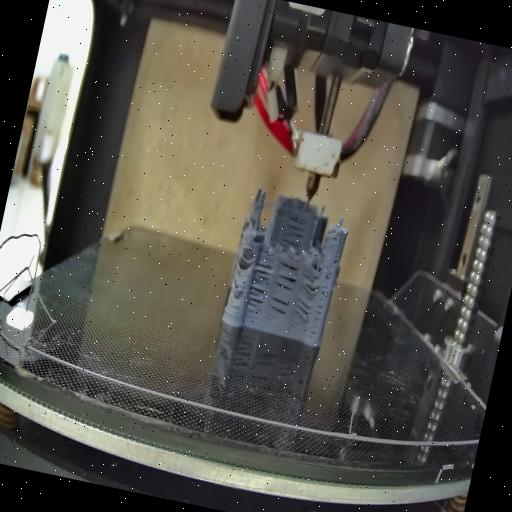cracks: (278, 212, 310, 252), (310, 276, 331, 336), (272, 259, 301, 294), (244, 284, 269, 320), (251, 253, 276, 286), (296, 270, 321, 296), (266, 295, 288, 323), (292, 298, 314, 324), (234, 247, 250, 268), (228, 275, 242, 295), (332, 248, 340, 266)
